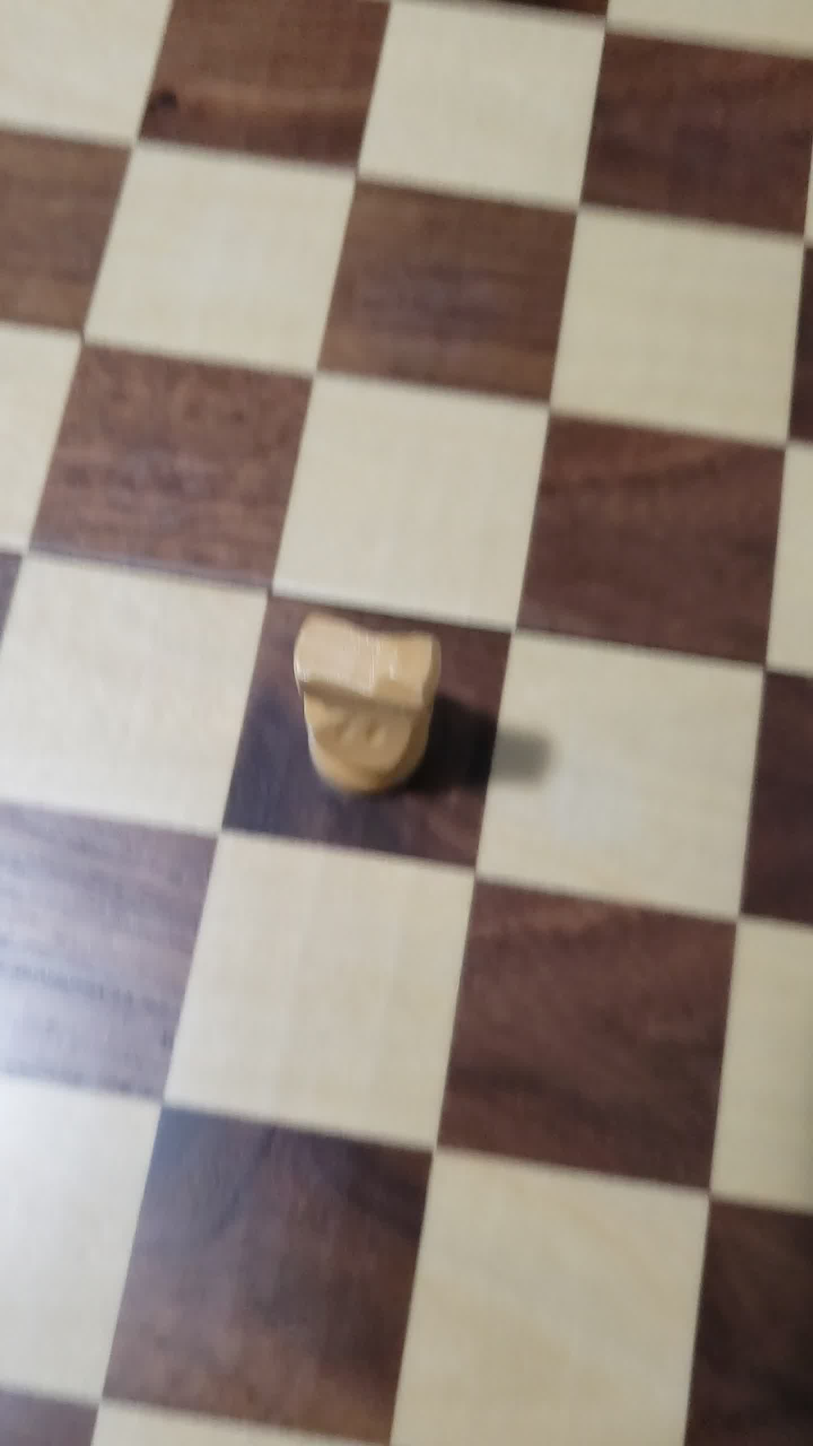white-knight: (254, 577, 482, 847)
